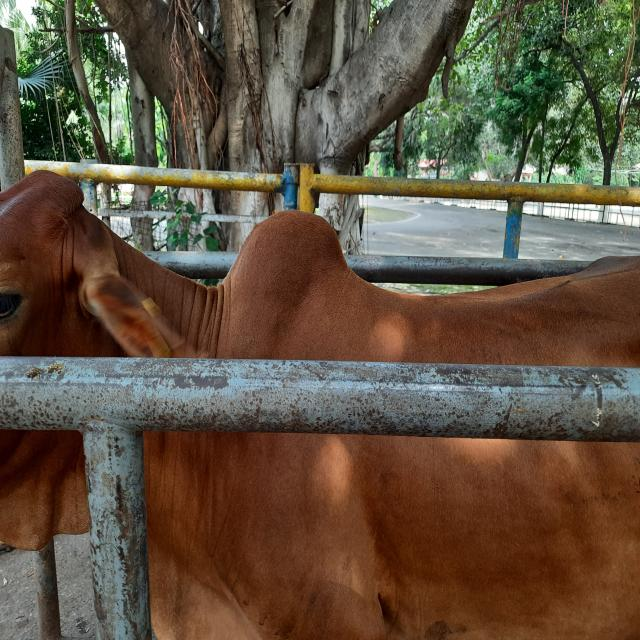cow: (1, 168, 640, 638)
hump: (220, 207, 356, 292)
